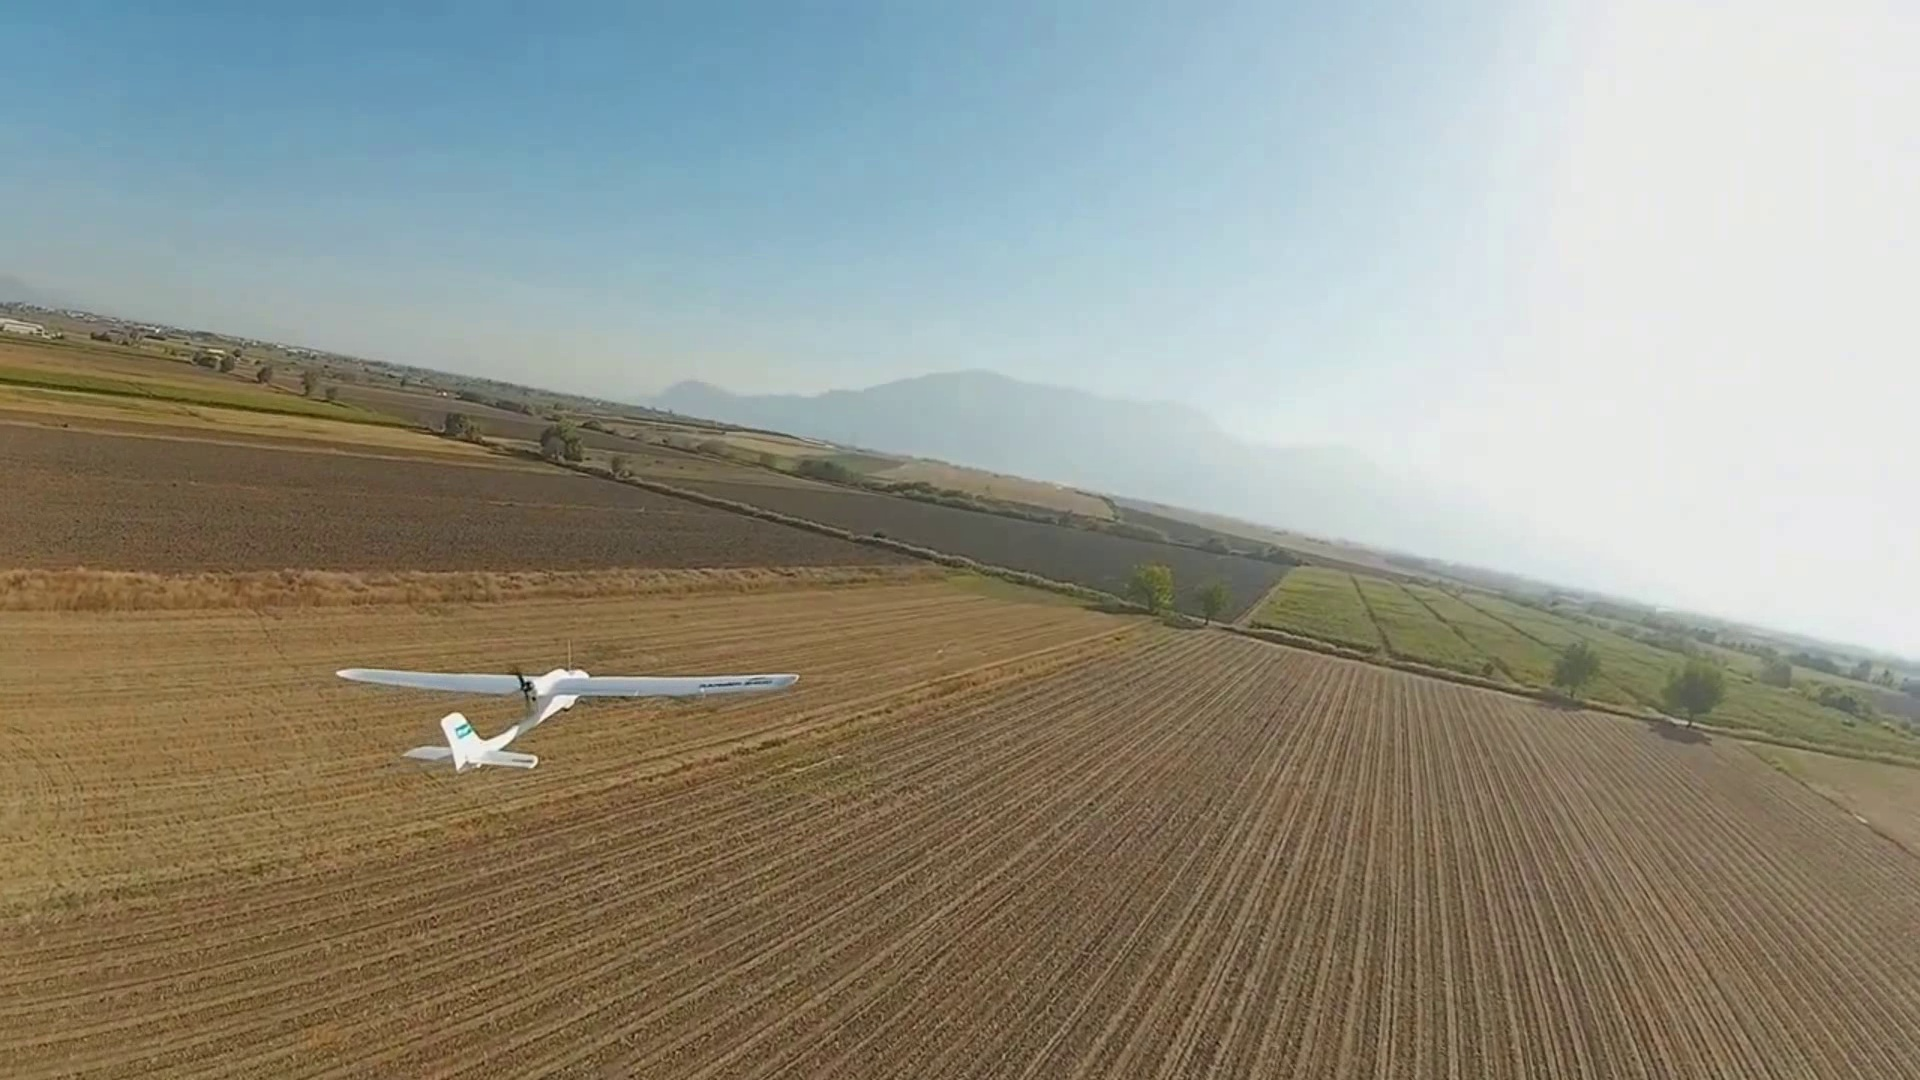airplane: (334, 662, 799, 773)
